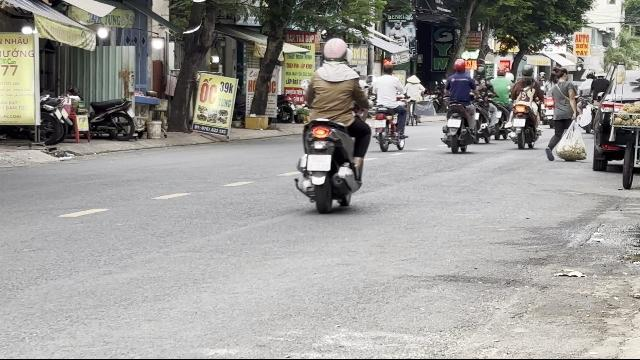helmet: (322, 38, 348, 64)
licenseplate: (308, 155, 330, 171)
motorcyclist: (292, 36, 370, 212)
